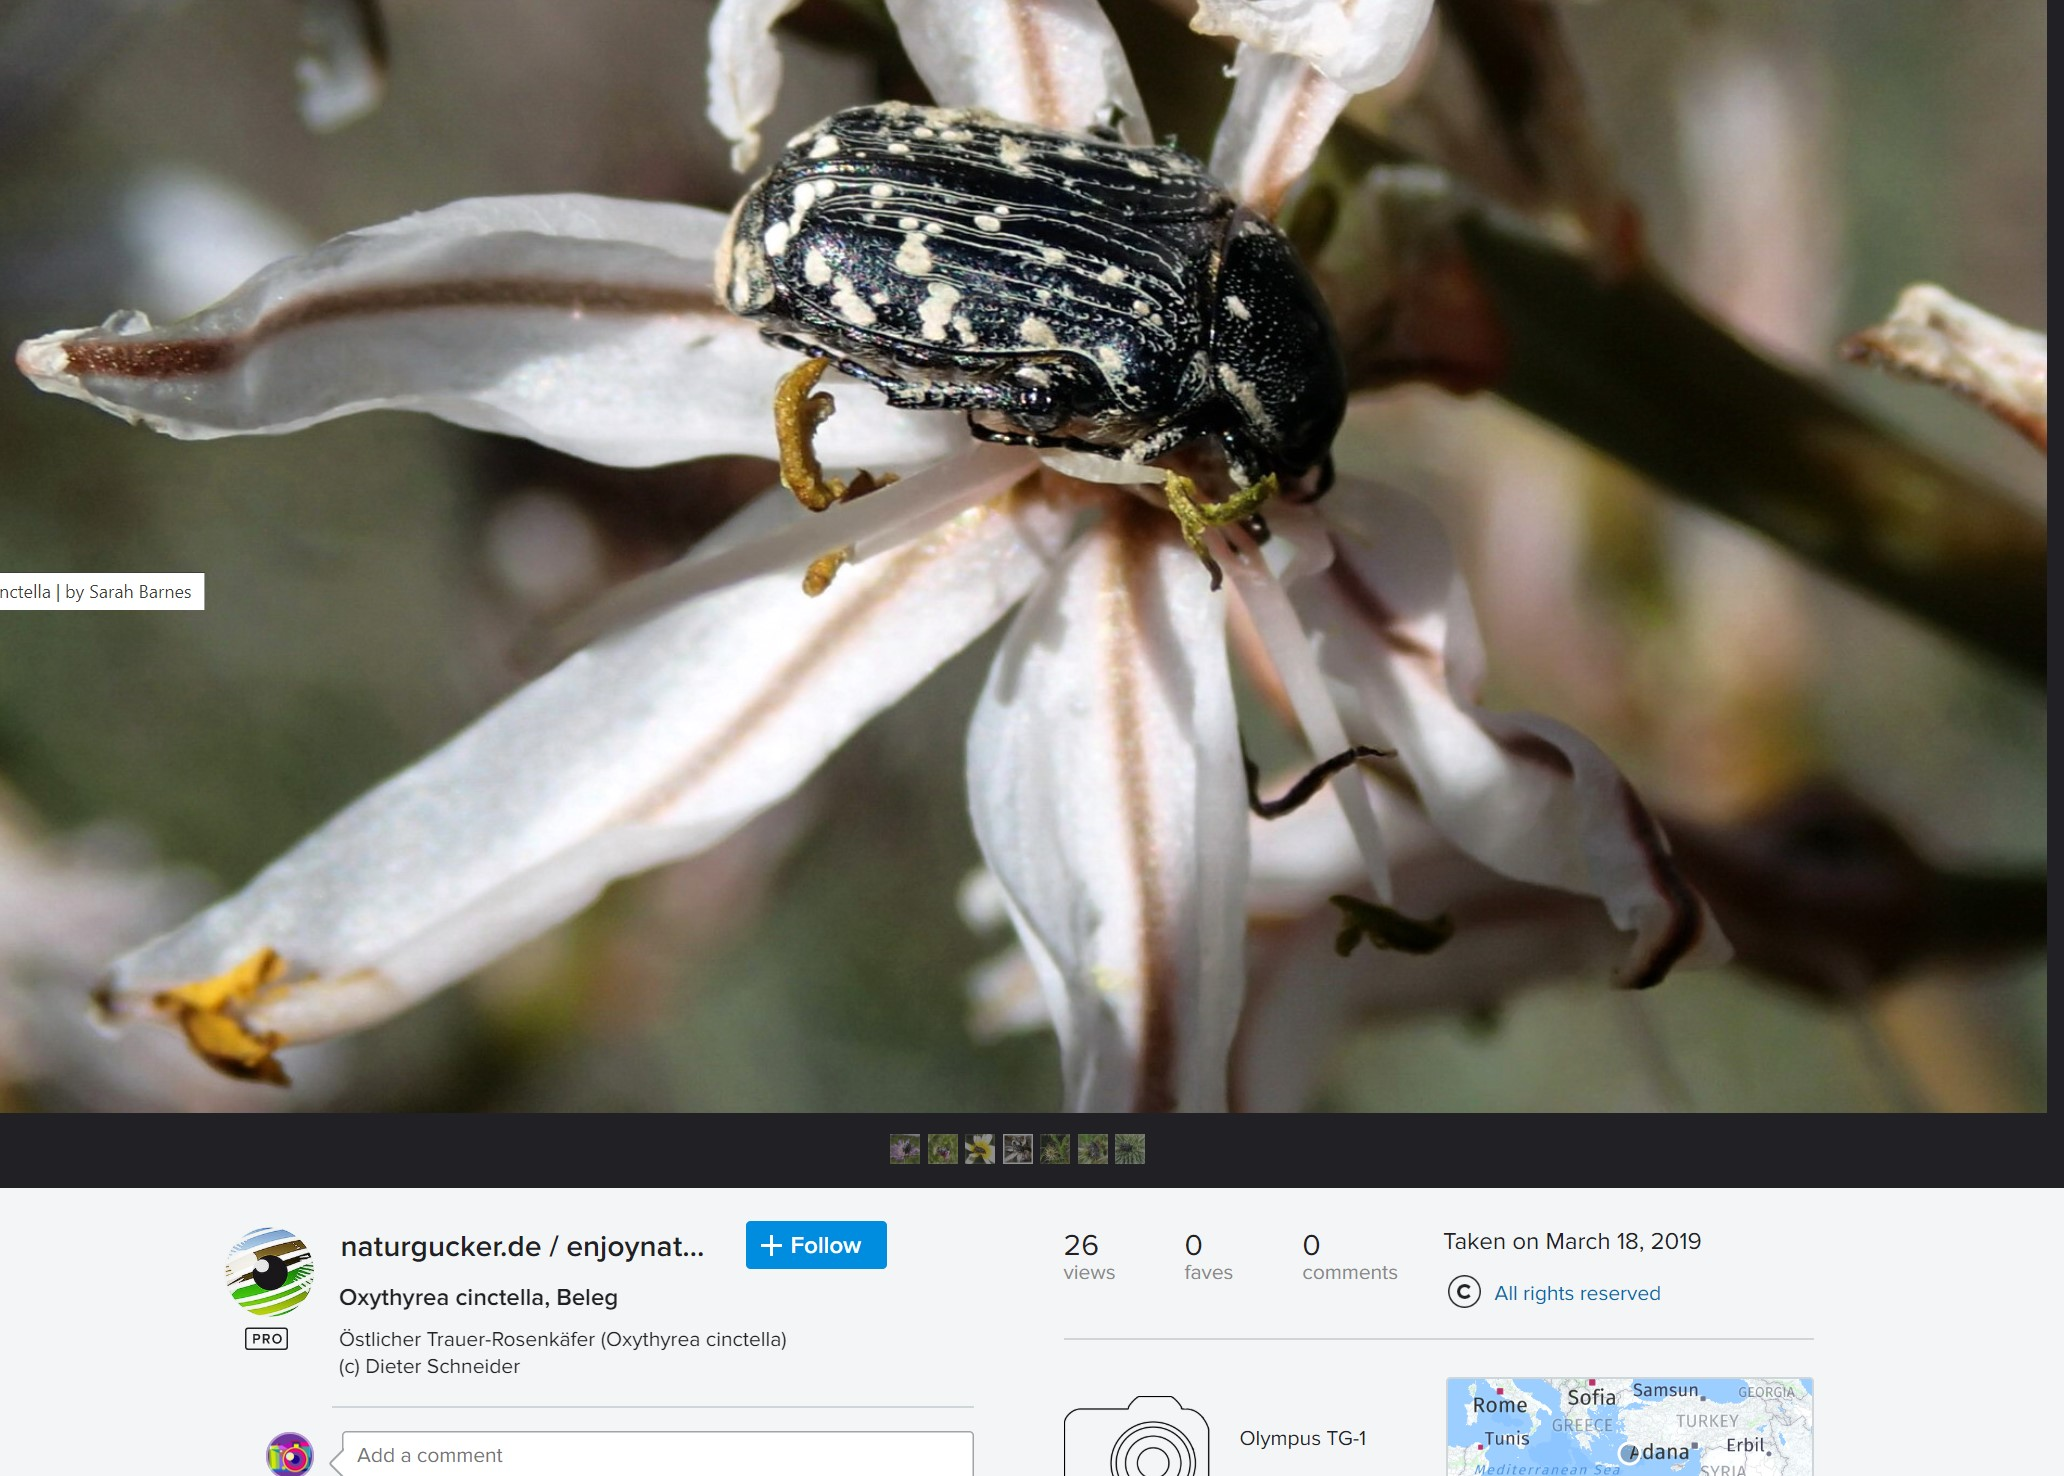Oxythyrea_cinctella: (701, 94, 1359, 593)
